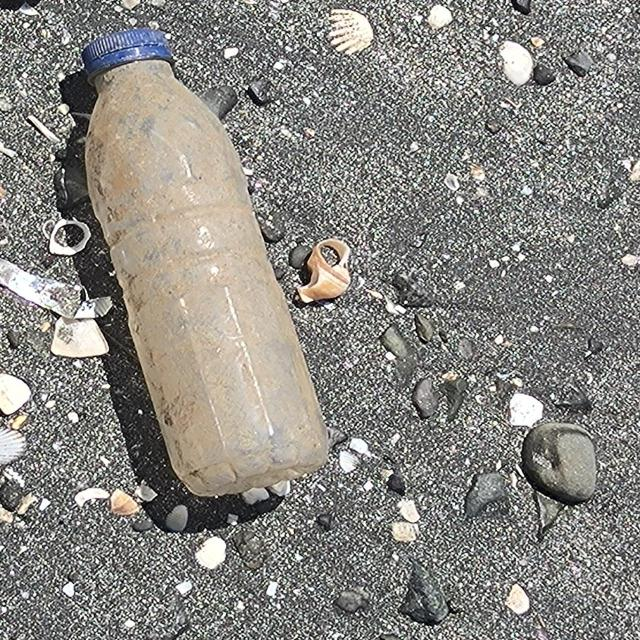litter: (78, 27, 334, 498)
